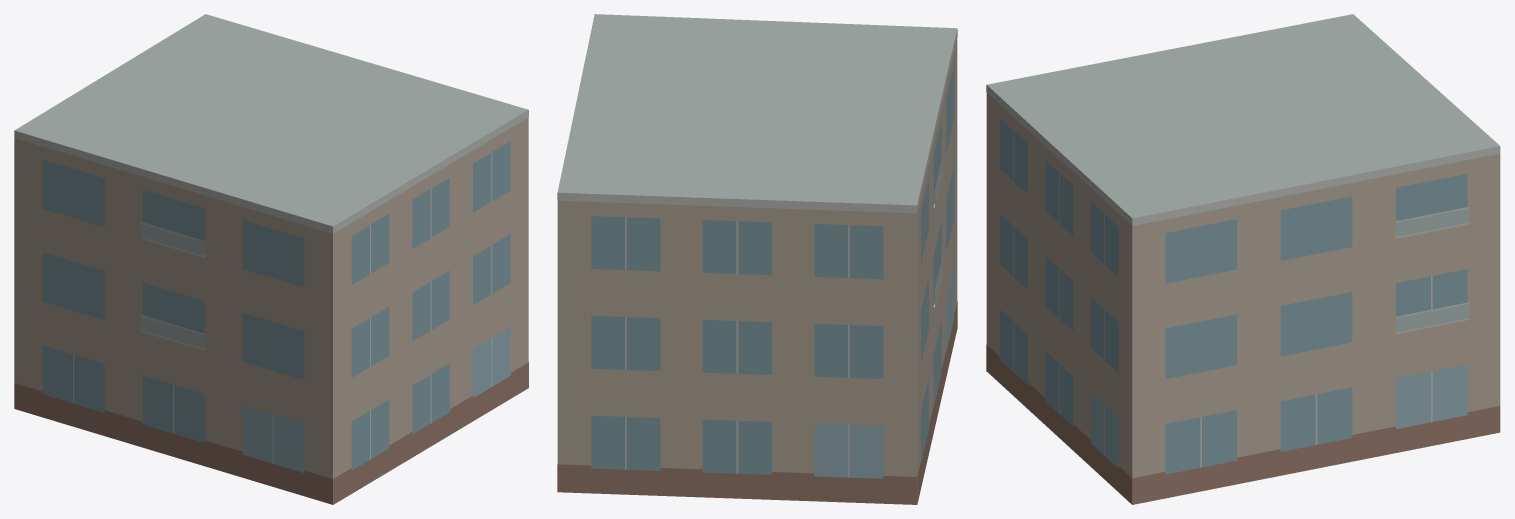
File: survey-upis-32716644.glb
3 views of the same model, side by side, from view 1: azimuth 30°, elevation 25°; view 2: azimuth 150°, elevation 25°; view 3: azimuth 270°, elevation 25° (orthographic). The views are drawn at different scales.
Visible parts, largest first — view 1: survey-upis-32716644.tmp; view 2: survey-upis-32716644.tmp; view 3: survey-upis-32716644.tmp.
Boxes of the visible parts, x1,y1,x2,y2 form: survey-upis-32716644.tmp: [14, 14, 528, 504]; survey-upis-32716644.tmp: [557, 14, 957, 504]; survey-upis-32716644.tmp: [986, 14, 1500, 504].
Bounding box in the file's own units: 14.02 × 9.15 × 14.89.
